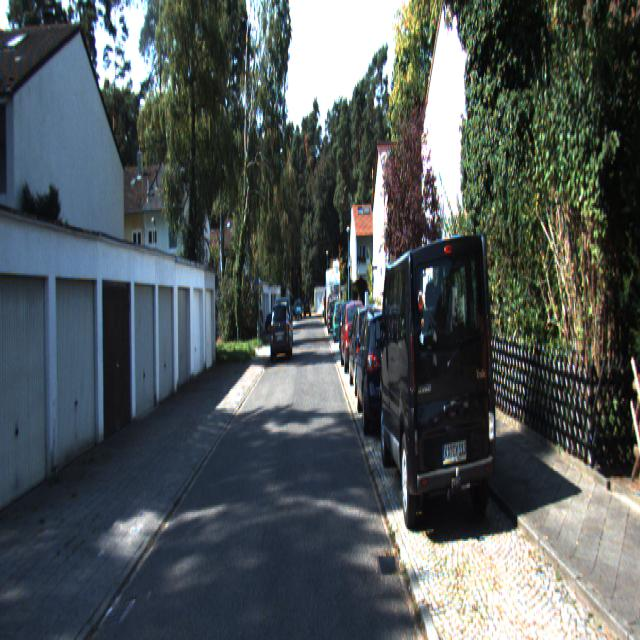Car: (377, 224, 500, 542), (354, 304, 410, 438), (349, 300, 385, 394), (339, 300, 367, 376), (270, 298, 293, 359), (326, 265, 340, 327), (333, 298, 348, 342)
